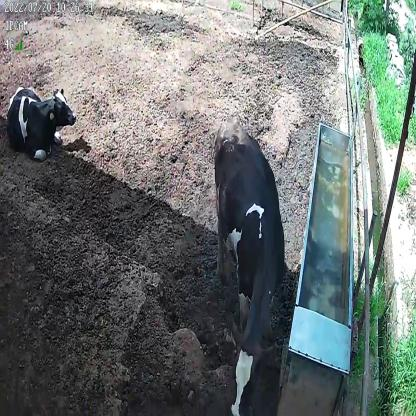cow: (211, 116, 285, 416), (6, 82, 78, 166)
